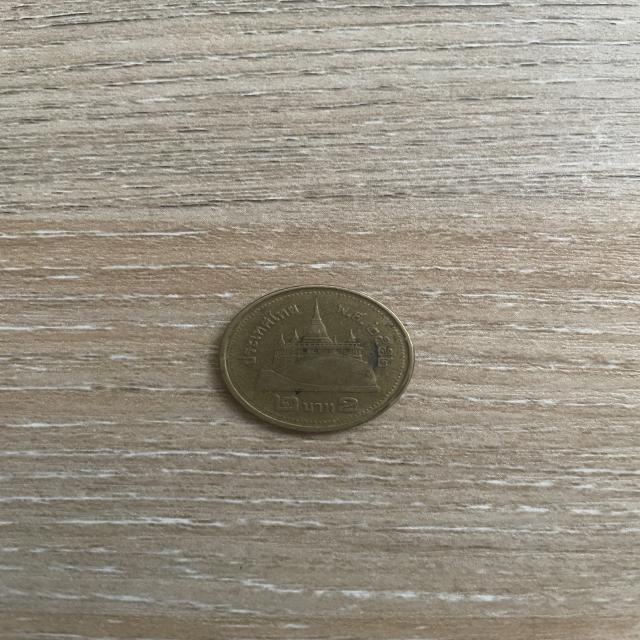2 Bath: (213, 278, 422, 445)
